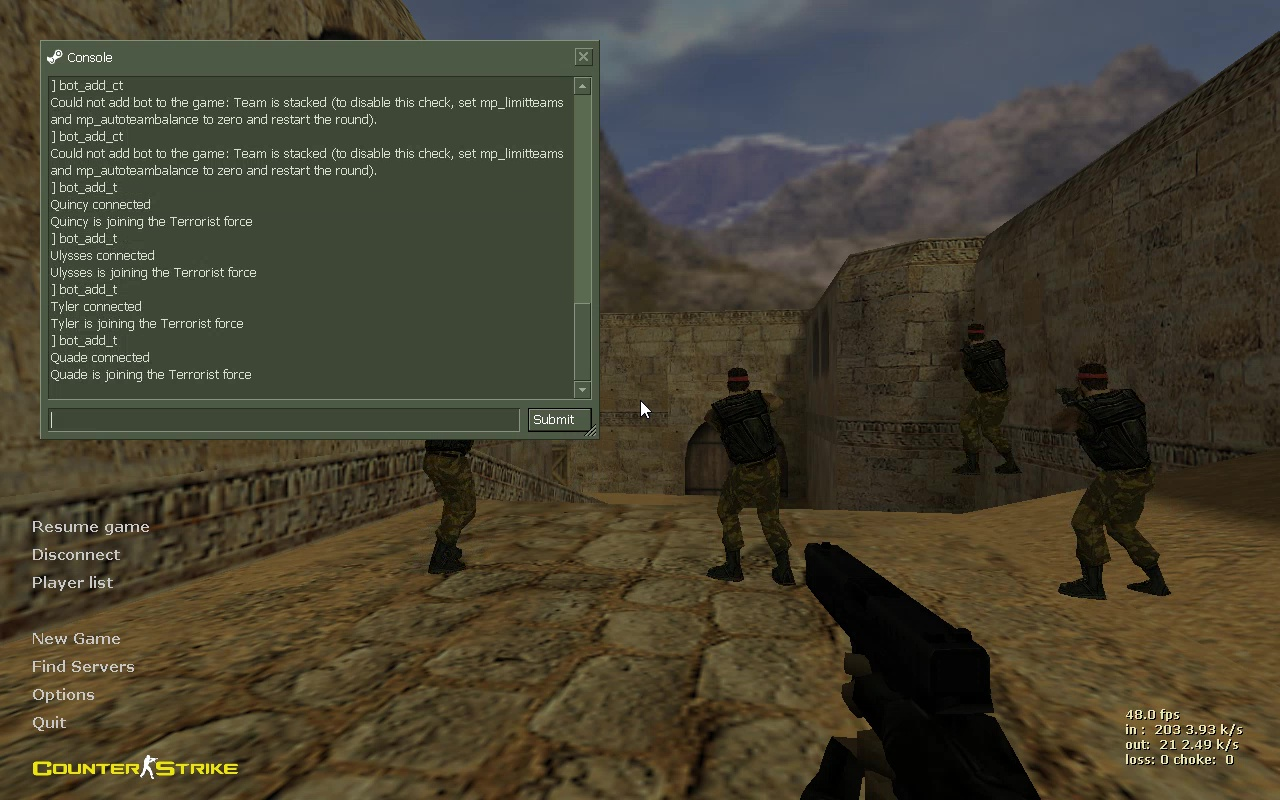terr1: (1051, 362, 1168, 599), (702, 368, 798, 585), (946, 326, 1019, 475)
